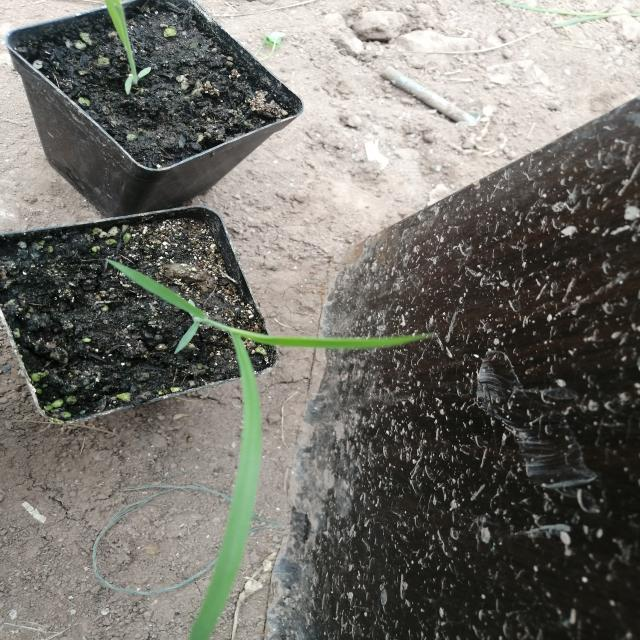crabgrass: (105, 251, 438, 618)
